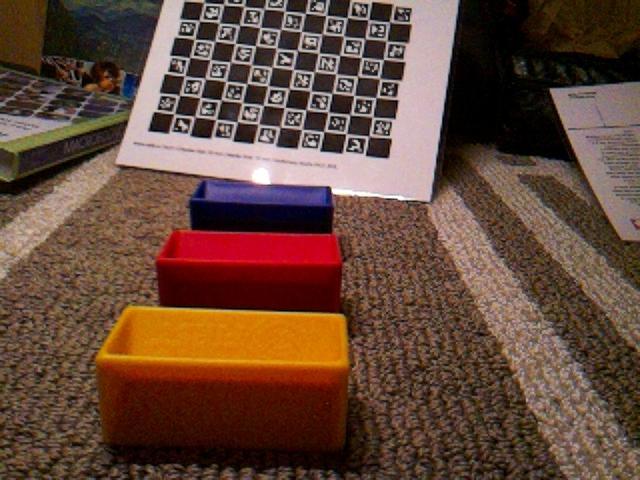blue: (188, 178, 335, 234)
red: (154, 228, 344, 312)
yellow: (94, 304, 351, 454)
